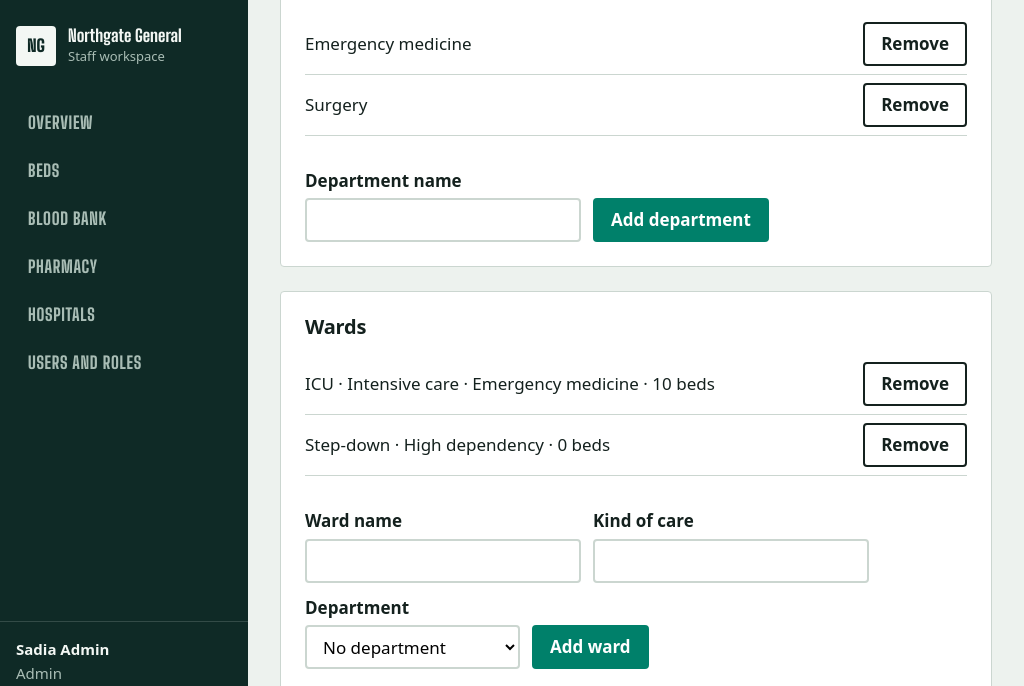
Test: HospitalDetailPage (stories 1.3 Hospital structure and capability profile) › removes an empty ward but explains why a ward with beds stays
The image size is (1024, 686).
(page scrolled)
Click the button with aria-label "Remove ICU". click: click(915, 384)
box: [863, 362, 967, 406]
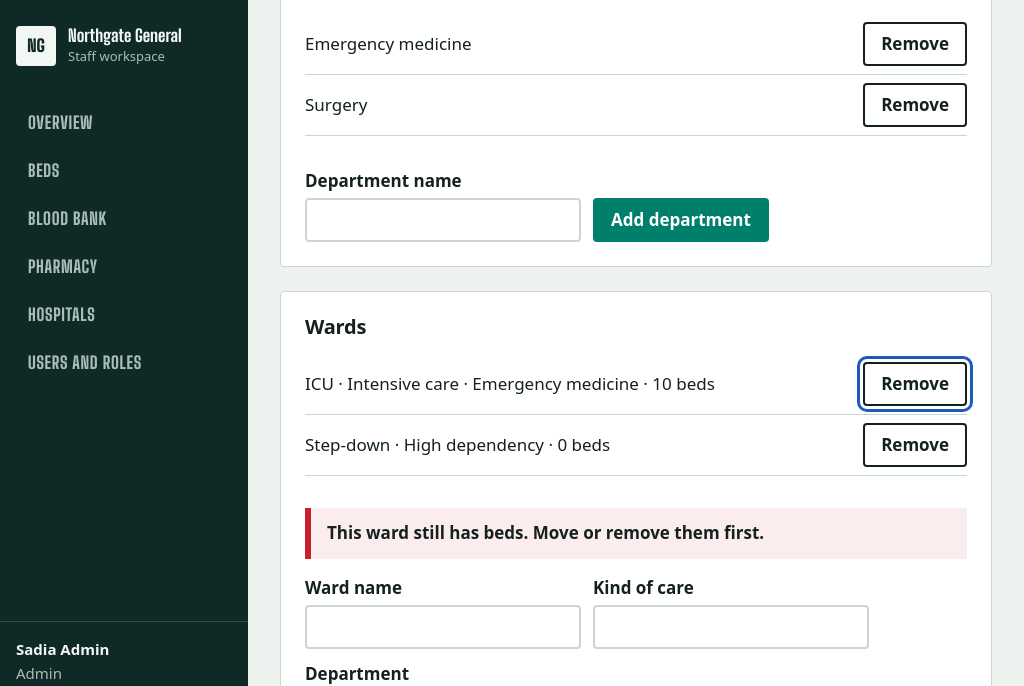
Expected: the message reads "This ward still has beds. Move or remove them first.", [327, 521, 764, 544]
Click the button with aria-label "Remove Step-down". click: click(915, 445)
box: [863, 423, 967, 467]
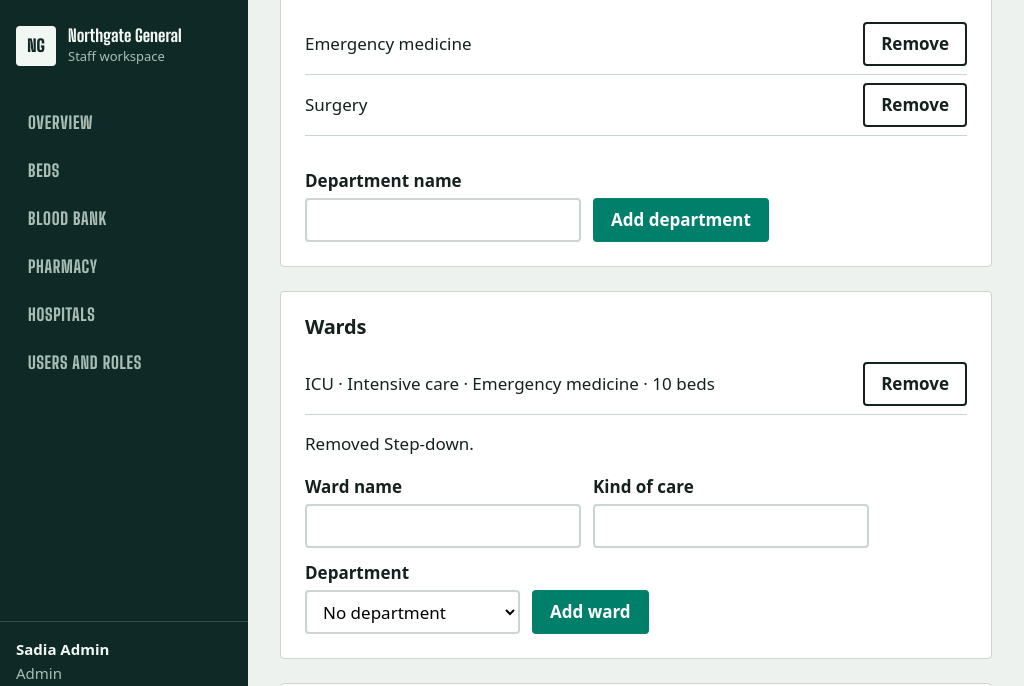
Expected: the text "Removed Step-down." is shown, [305, 432, 474, 455]
Expected: the text "Step-down ·" is gone
